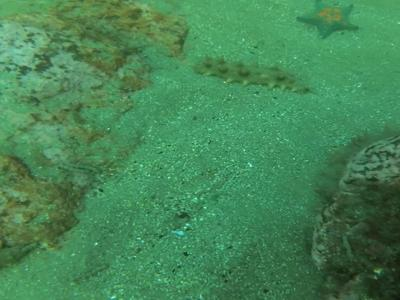holothurian: (311, 118, 389, 229), (197, 53, 305, 94)
